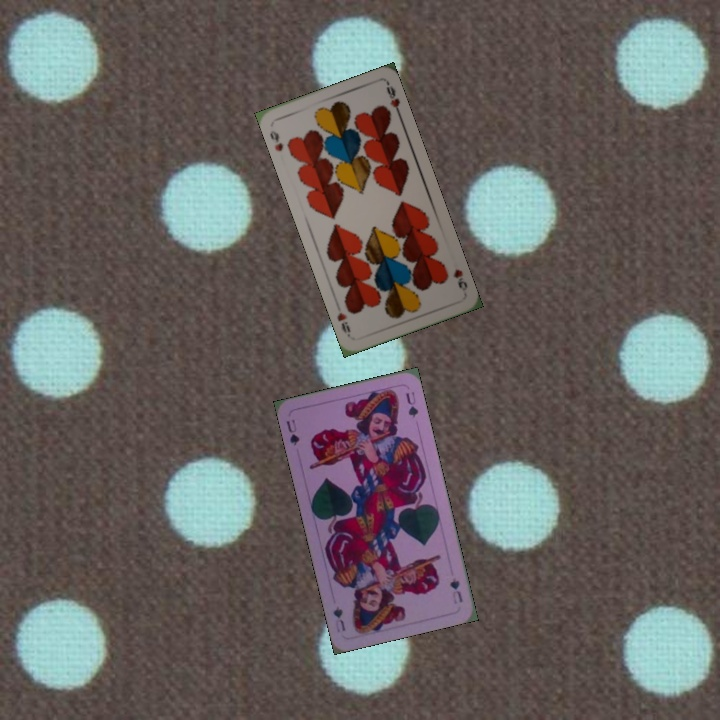GU: (282, 415, 302, 448), (446, 574, 465, 607)
H9: (449, 265, 470, 294), (265, 126, 286, 154)
